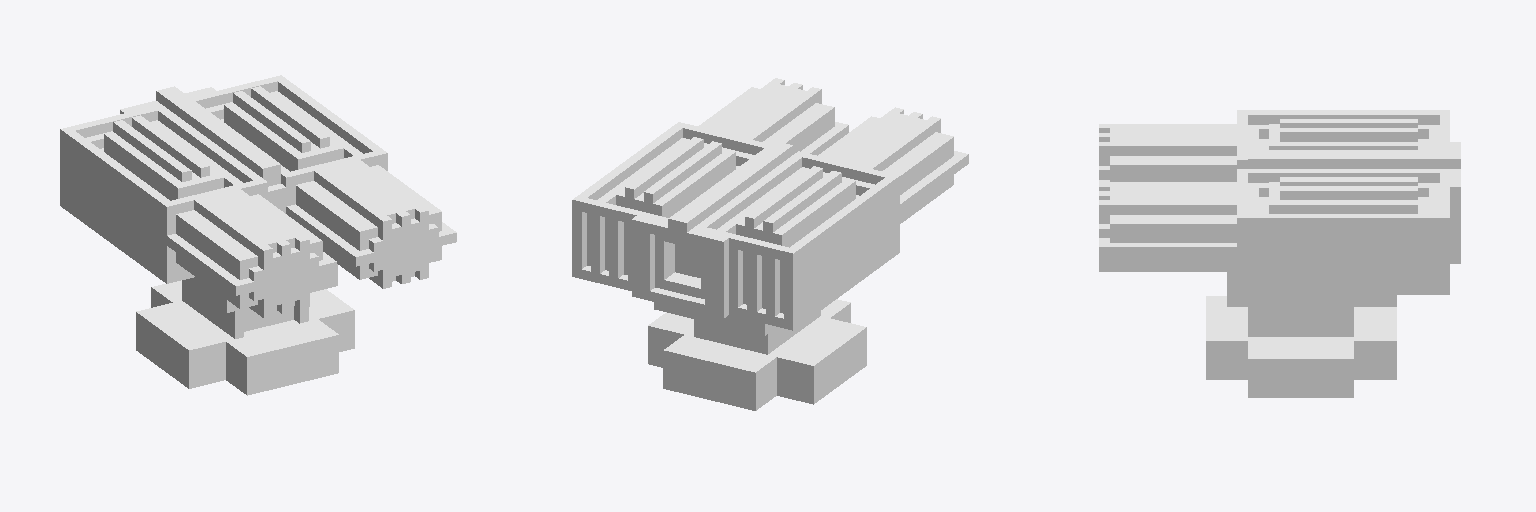
File: ShortRangeModule.obj
3 renders of one model, left to right at view 1: azimuth 30°, elevation 25°; view 2: azimuth 150°, elevation 25°; view 3: azimuth 270°, elevation 25°, orthographic.
Parts seen in each view (by area): view 1: ShortRangeModule; view 2: ShortRangeModule; view 3: ShortRangeModule.
Boxes of the visible parts, x1=… form: ShortRangeModule: x1=60, y1=75, x2=456, y2=395; ShortRangeModule: x1=572, y1=78, x2=968, y2=410; ShortRangeModule: x1=1099, y1=110, x2=1460, y2=397.
Bounding box in the file's own units: 24 × 21 × 34.